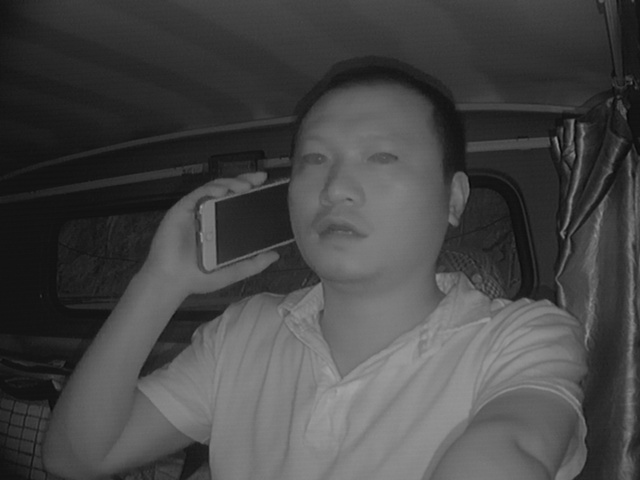hand: (148, 167, 279, 288)
